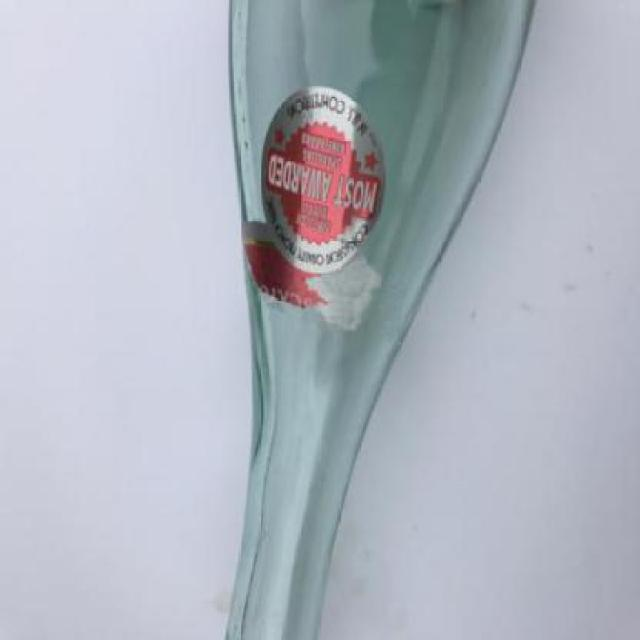kaca: (223, 0, 537, 638)
